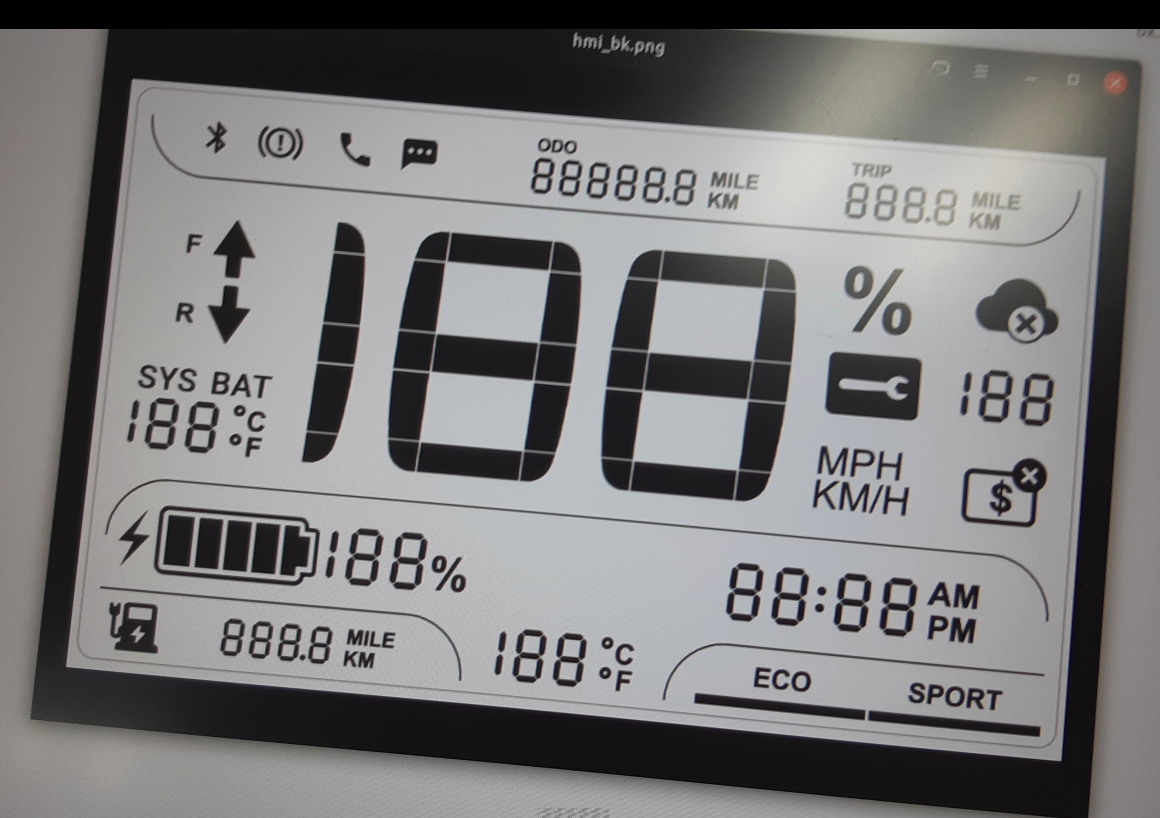bluetooth_on: (200, 118, 232, 157)
braking_on: (254, 121, 306, 165)
calling_on: (335, 127, 375, 172)
connection_lost: (971, 275, 1063, 347)
error_code: (820, 346, 926, 426)
low_battery: (102, 596, 163, 657)
sms_on: (397, 134, 442, 174)
vin_id: (955, 453, 1053, 531)
